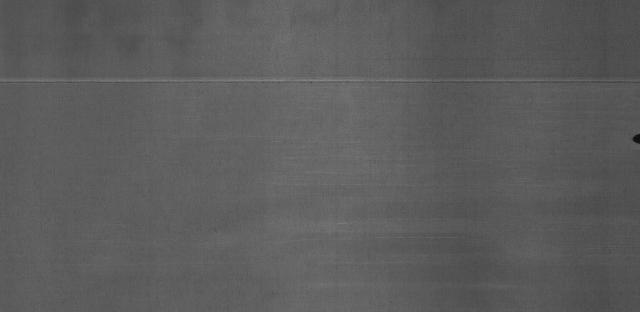punching_hole: (630, 130, 640, 147)
welding_line: (3, 71, 640, 92)
